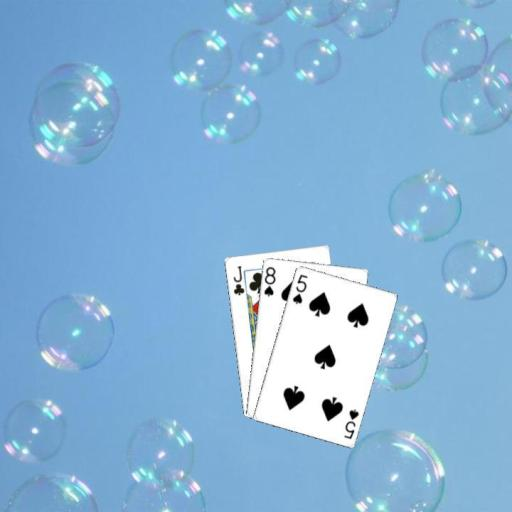5S: (341, 406, 360, 441), (290, 271, 309, 305)
8S: (260, 263, 277, 298)
JC: (230, 263, 245, 297)
